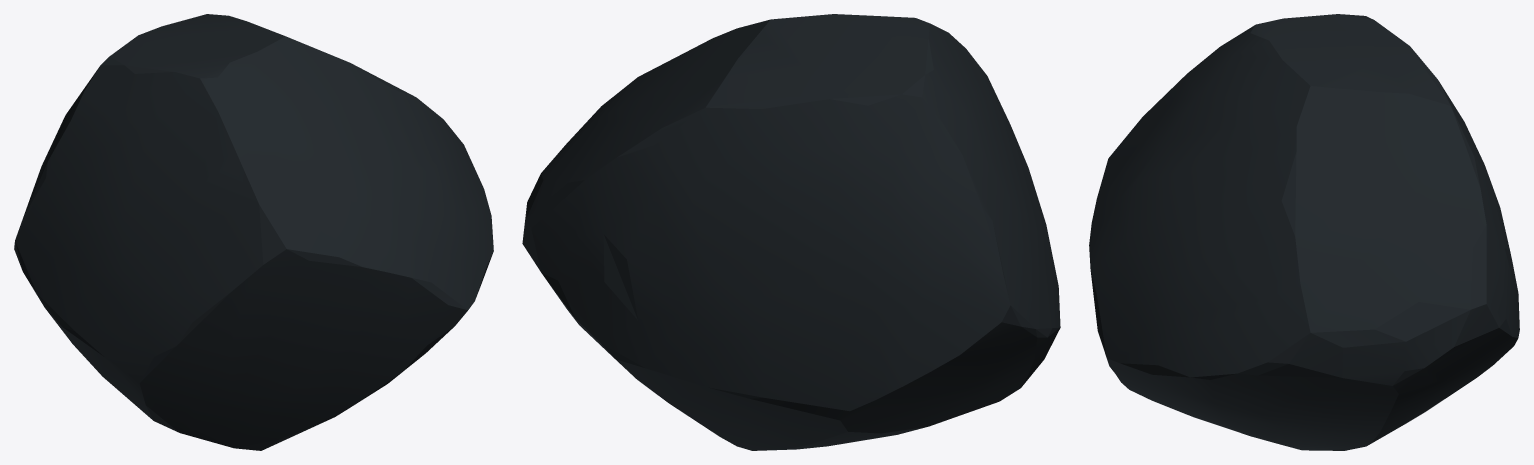
Rendered from Asteroid_m_08.FBX.
3 views of the same model, side by side, from view 1: azimuth 30°, elevation 25°; view 2: azimuth 150°, elevation 25°; view 3: azimuth 270°, elevation 25° (orthographic). The views are drawn at different scales.
Parts seen in each view (by area): view 1: Asteroid_m_08; view 2: Asteroid_m_08; view 3: Asteroid_m_08.
Part boxes in pixels (<box>): Asteroid_m_08: <box>14,14,493,450</box>; Asteroid_m_08: <box>522,14,1060,450</box>; Asteroid_m_08: <box>1089,14,1519,450</box>.
Bounding box in the file's own units: 915 × 770 × 784.
